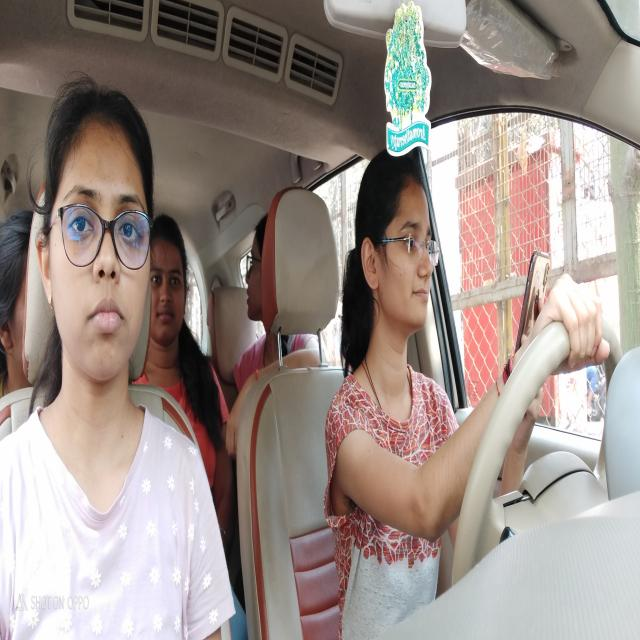mobile: (522, 249, 548, 343)
person: (38, 77, 157, 390), (355, 158, 438, 335), (1, 213, 42, 384), (152, 215, 192, 357), (244, 222, 273, 324)
